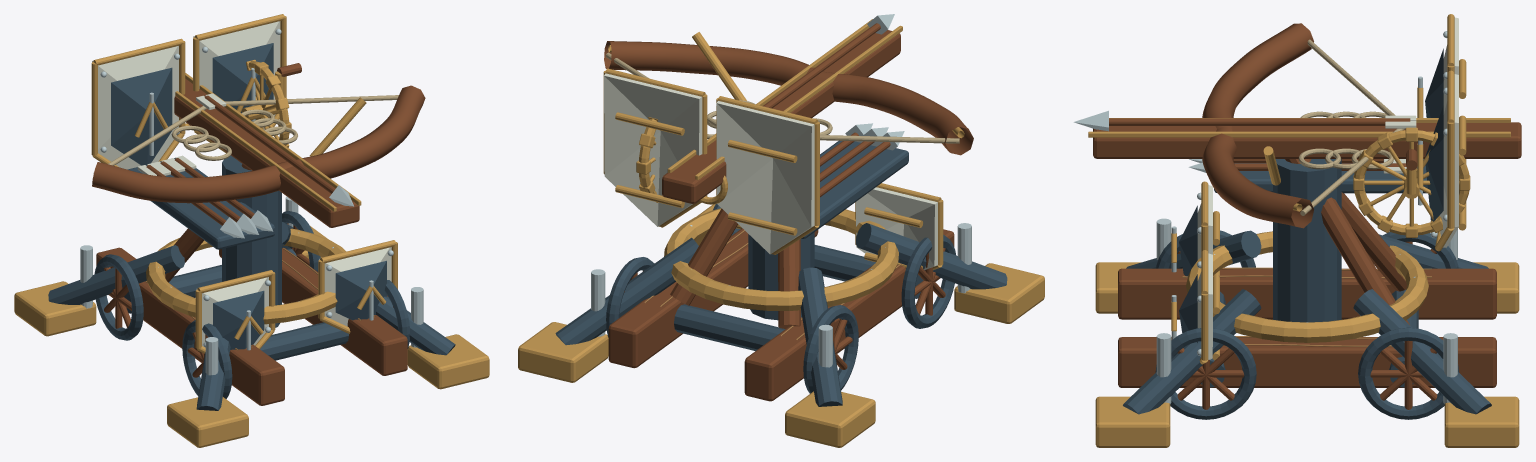
Rendered from ballista-3.glb.
The picture shows the model from 3 angles, left to right: view 1: azimuth 30°, elevation 25°; view 2: azimuth 150°, elevation 25°; view 3: azimuth 270°, elevation 25°; orthographic projection. The views are drawn at different scales.
Visible parts, largest first — view 1: Base - Blue tempered steel.002, Base - Brushed electrum.002, Carriage - Oiled walnut.002, Base - Oiled walnut.002, Turret - Blue tempered steel.002, Turret - Royal ivory enamel.002, Turret - Brushed electrum.002, Base - Royal ivory enamel.002, Base - Edge steel.002, Carriage - Brushed electrum.002, Carriage - Hemp windings.002, Winch - Brushed electrum.002 (+4 smaller); view 2: Base - Blue tempered steel.002, Turret - Royal ivory enamel.002, Base - Brushed electrum.002, Base - Oiled walnut.002, Carriage - Oiled walnut.002, Turret - Brushed electrum.002, Turret - Blue tempered steel.002, Base - Royal ivory enamel.002, Carriage - Brushed electrum.002, Base - Edge steel.002, Turret - Oiled walnut.002, Bowstring - Hemp windings.002 (+3 smaller); view 3: Base - Oiled walnut.002, Base - Blue tempered steel.002, Base - Brushed electrum.002, Carriage - Oiled walnut.002, Winch - Brushed electrum.002, Turret - Brushed electrum.002, Turret - Blue tempered steel.002, Carriage - Brushed electrum.002, Base - Edge steel.002, LoadedBolt - Oiled walnut.002, Turret - Royal ivory enamel.002, Carriage - Hemp windings.002 (+5 smaller).
Boxes of the visible parts, left/top/right/bottom form: Base - Blue tempered steel.002: left=48, top=155, right=455, bottom=410; Base - Brushed electrum.002: left=14, top=226, right=489, bottom=447; Carriage - Oiled walnut.002: left=92, top=78, right=425, bottom=227; Base - Oiled walnut.002: left=96, top=164, right=407, bottom=405; Turret - Blue tempered steel.002: left=111, top=43, right=274, bottom=249; Turret - Royal ivory enamel.002: left=92, top=21, right=280, bottom=175; Turret - Brushed electrum.002: left=91, top=14, right=366, bottom=166; Base - Royal ivory enamel.002: left=196, top=247, right=391, bottom=346; Base - Edge steel.002: left=80, top=196, right=423, bottom=375; Carriage - Brushed electrum.002: left=175, top=73, right=361, bottom=211; Carriage - Hemp windings.002: left=171, top=109, right=297, bottom=160; Winch - Brushed electrum.002: left=242, top=59, right=291, bottom=147; Base - Blue tempered steel.002: left=555, top=204, right=1007, bottom=406; Turret - Royal ivory enamel.002: left=604, top=73, right=814, bottom=254; Base - Brushed electrum.002: left=518, top=183, right=1044, bottom=447; Base - Oiled walnut.002: left=608, top=208, right=954, bottom=401; Carriage - Oiled walnut.002: left=604, top=28, right=973, bottom=203; Turret - Brushed electrum.002: left=603, top=32, right=819, bottom=254; Turret - Blue tempered steel.002: left=801, top=140, right=908, bottom=238; Base - Royal ivory enamel.002: left=856, top=187, right=937, bottom=269; Carriage - Brushed electrum.002: left=608, top=19, right=964, bottom=180; Base - Edge steel.002: left=591, top=223, right=971, bottom=367; Turret - Oiled walnut.002: left=820, top=132, right=890, bottom=197; Bowstring - Hemp windings.002: left=605, top=52, right=959, bottom=143; Base - Oiled walnut.002: left=1118, top=159, right=1496, bottom=409; Base - Blue tempered steel.002: left=1123, top=159, right=1491, bottom=419; Base - Brushed electrum.002: left=1095, top=181, right=1519, bottom=447; Carriage - Oiled walnut.002: left=1093, top=23, right=1521, bottom=228; Winch - Brushed electrum.002: left=1353, top=127, right=1470, bottom=237; Turret - Brushed electrum.002: left=1263, top=14, right=1466, bottom=251; Turret - Blue tempered steel.002: left=1214, top=48, right=1443, bottom=221; Carriage - Brushed electrum.002: left=1088, top=118, right=1510, bottom=211; Base - Edge steel.002: left=1156, top=192, right=1457, bottom=403; LoadedBolt - Oiled walnut.002: left=1109, top=118, right=1410, bottom=125; Turret - Royal ivory enamel.002: left=1383, top=17, right=1458, bottom=247; Carriage - Hemp windings.002: left=1298, top=111, right=1393, bottom=169.
Bounding box in the file's own units: 2.82 × 2.15 × 2.88.
